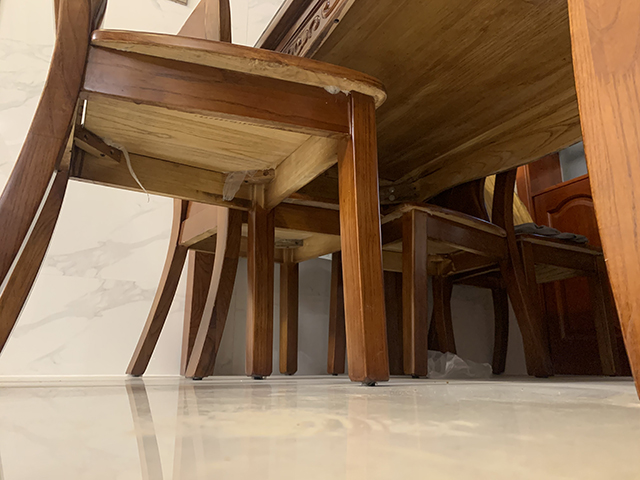stool: (1, 1, 391, 385), (126, 1, 348, 381), (326, 165, 554, 379)
table: (255, 1, 640, 394)
